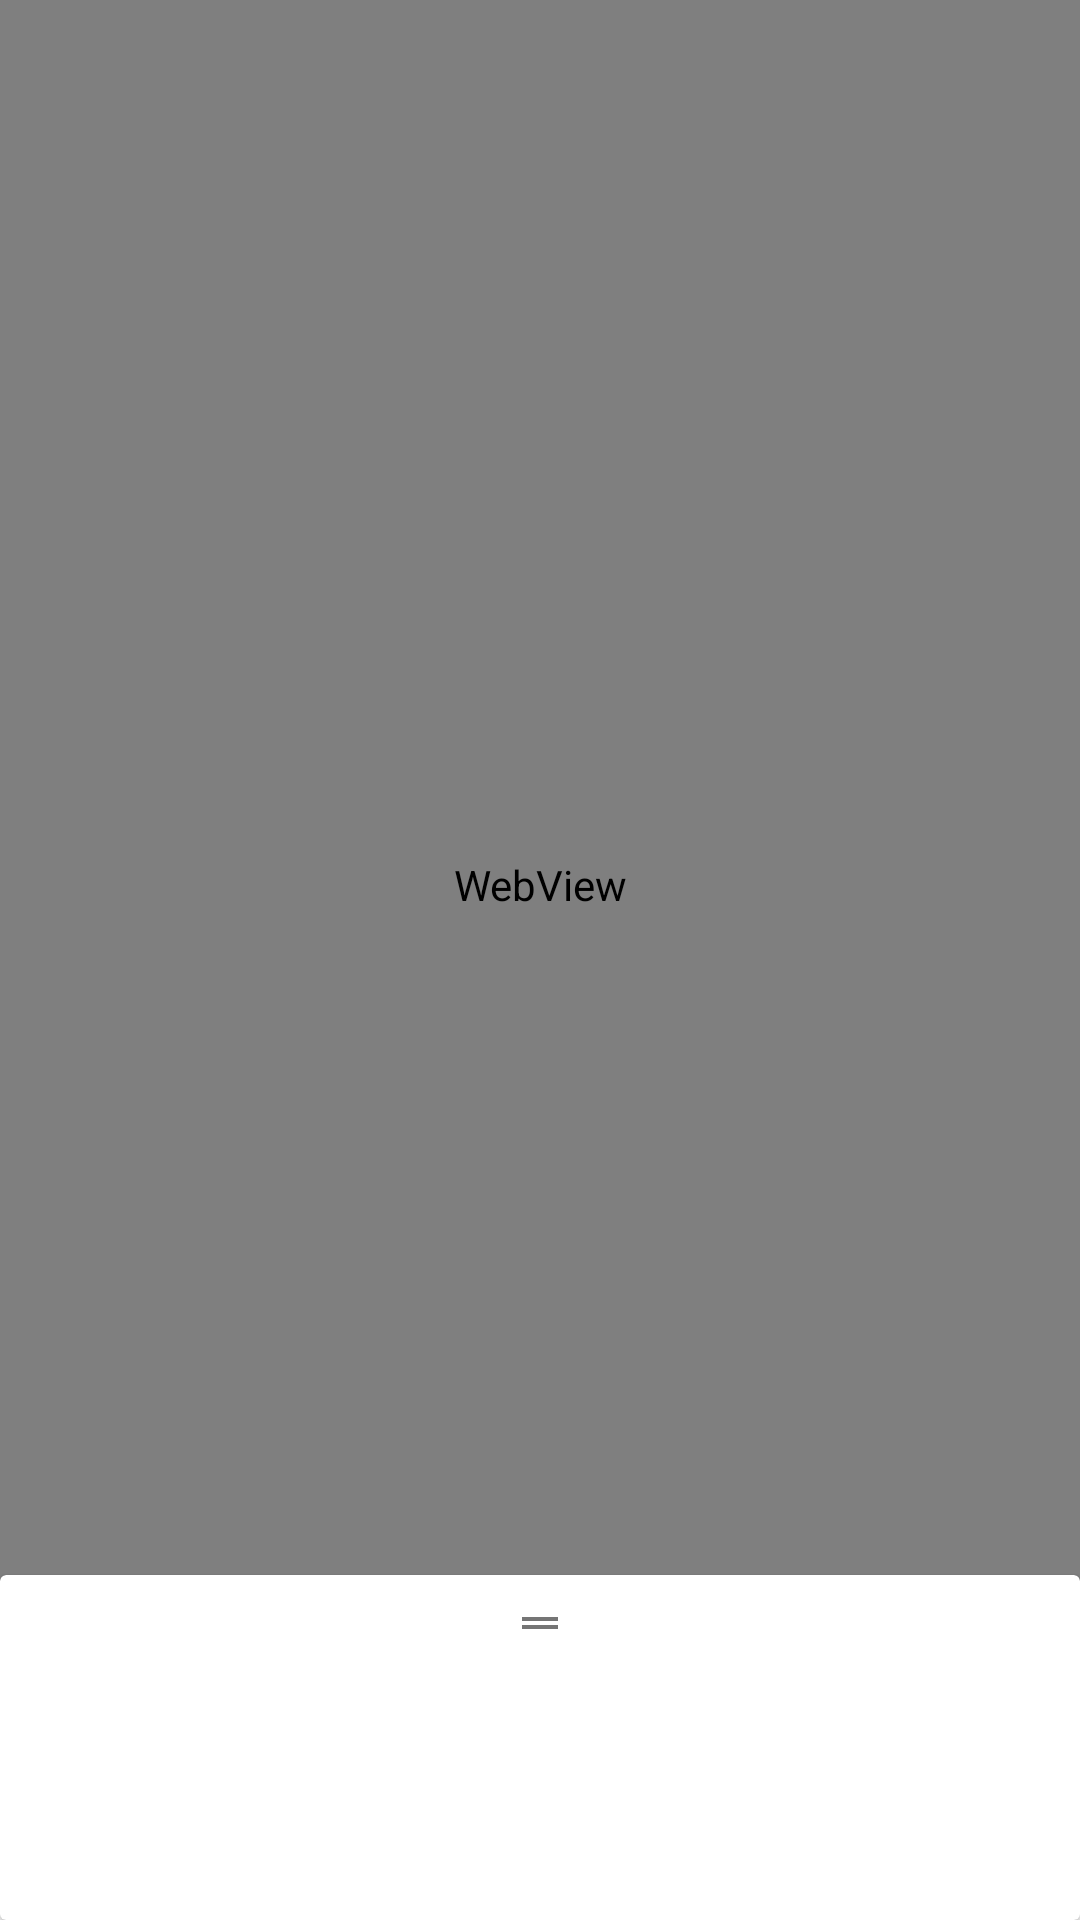

Screen size 1080 x 1920. Icon name, then its center in pixels as [x,y]:
drag horizontal variant: [540,1623]
